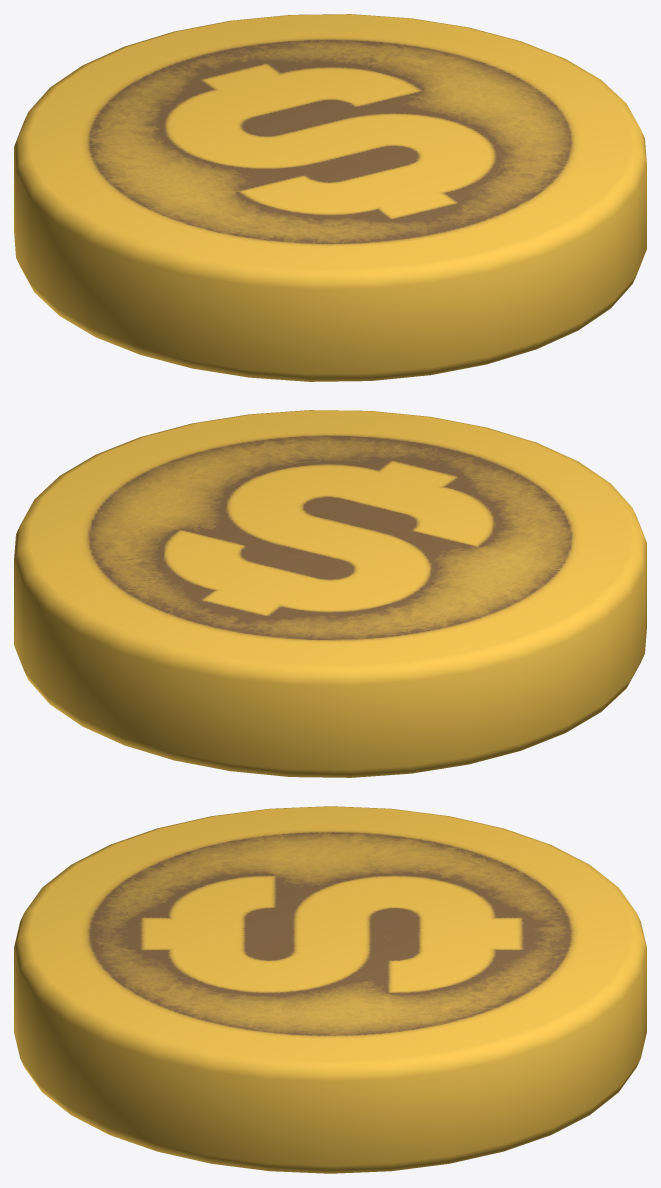
Rendered from coin.glb.
3 views of the same model, one above another, from view 1: azimuth 30°, elevation 25°; view 2: azimuth 150°, elevation 25°; view 3: azimuth 270°, elevation 25° (orthographic).
Parts seen in each view (by area): view 1: coin_lp; view 2: coin_lp; view 3: coin_lp.
Boxes of the visible parts, <box> form: coin_lp: <box>14,14,646,381</box>; coin_lp: <box>14,410,646,777</box>; coin_lp: <box>14,806,646,1173</box>.
Bounding box in the file's own units: 2 × 0.39 × 2.
1 material, 1 textured.
